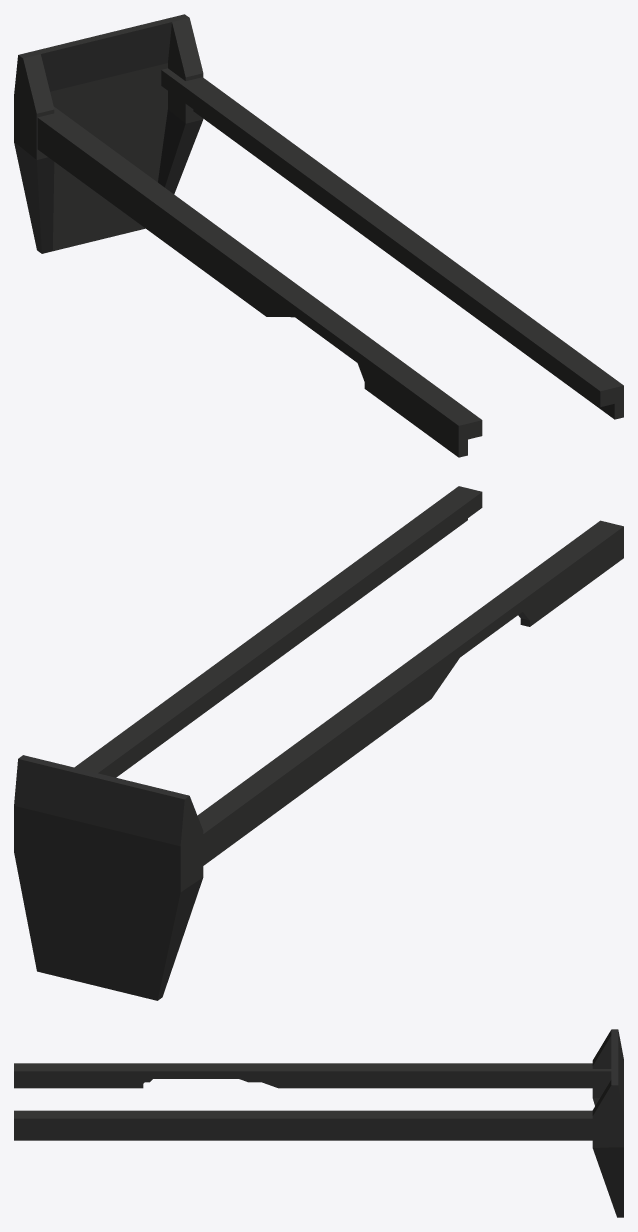
File: ReplikaSMGStock.fbx
3 views of the same model, one above another, from view 1: azimuth 30°, elevation 25°; view 2: azimuth 150°, elevation 25°; view 3: azimuth 270°, elevation 25° (orthographic). The views are drawn at different scales.
Visible parts, largest first — view 1: SMGGrip; view 2: SMGGrip; view 3: SMGGrip.
Part boxes in pixels (x1,y1,x2,y2): SMGGrip: (14, 14, 623, 457); SMGGrip: (14, 486, 623, 1000); SMGGrip: (14, 1029, 623, 1217).
Bounding box in the file's own units: 0.228 × 0.0578 × 0.0494.
